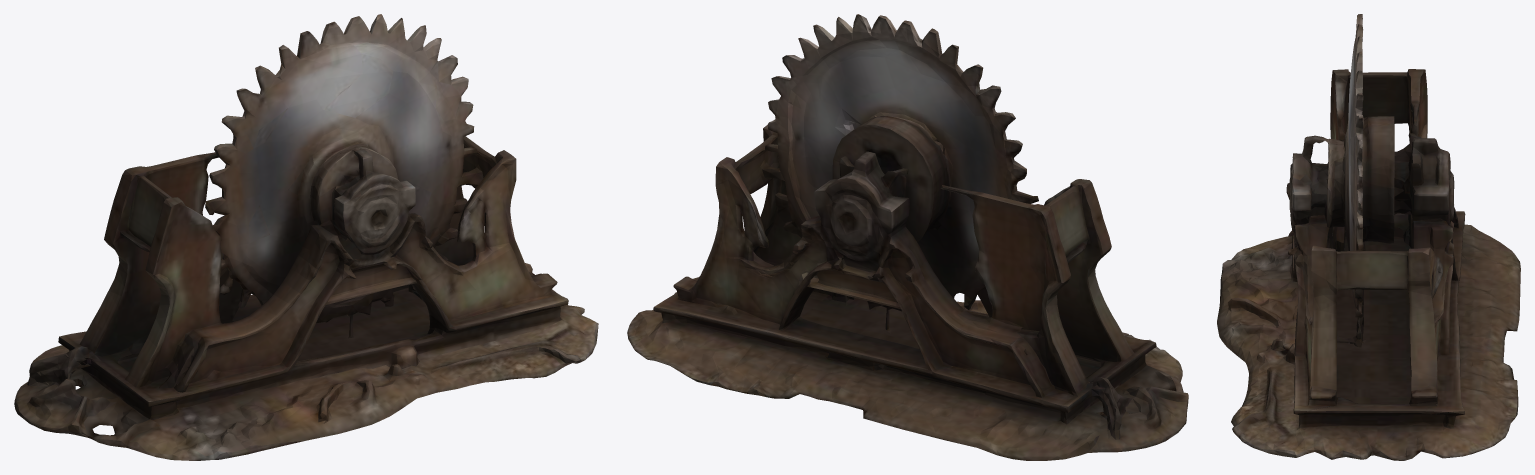
File: scie.glb
The picture shows the model from 3 angles, left to right: view 1: azimuth 30°, elevation 25°; view 2: azimuth 150°, elevation 25°; view 3: azimuth 270°, elevation 25°; orthographic projection. The views are drawn at different scales.
Visible parts, largest first — view 1: world; view 2: world; view 3: world.
Part boxes in pixels (x1,y1,x2,y2): world: [14, 14, 598, 460]; world: [627, 14, 1188, 460]; world: [1217, 14, 1520, 460].
Size of the model in its own units: 0.998 by 0.6157 by 0.5174.
1 material, 1 textured.
